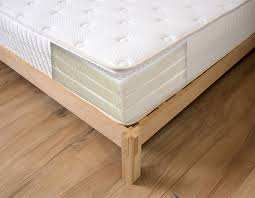bed-matress: (1, 1, 254, 129)
